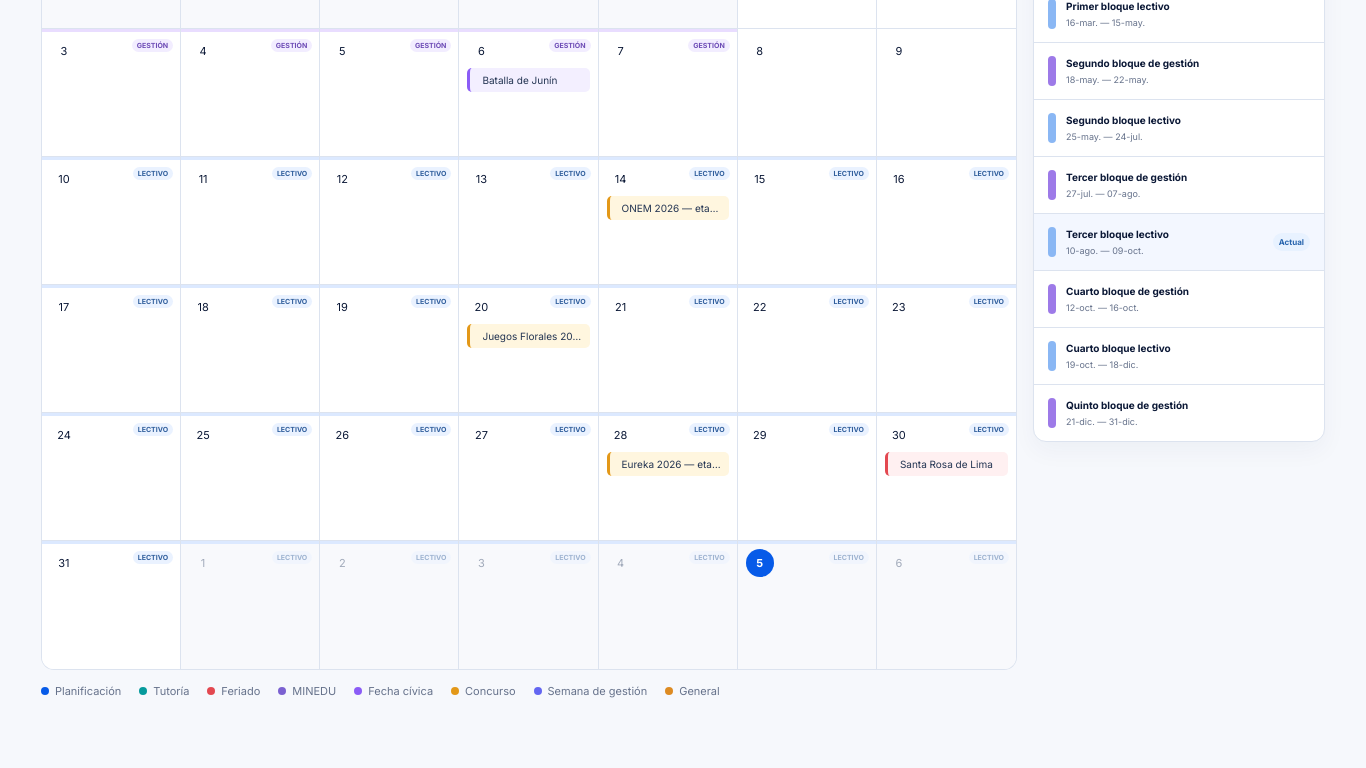
Test: CalendarPage › opens the date dialog with a double click and then opens its details
The image size is (1366, 768).
(page scrolled)
Double-click the button named "Agregar evento el 31/8/2026" at (64, 563), box [50,549,78,577]
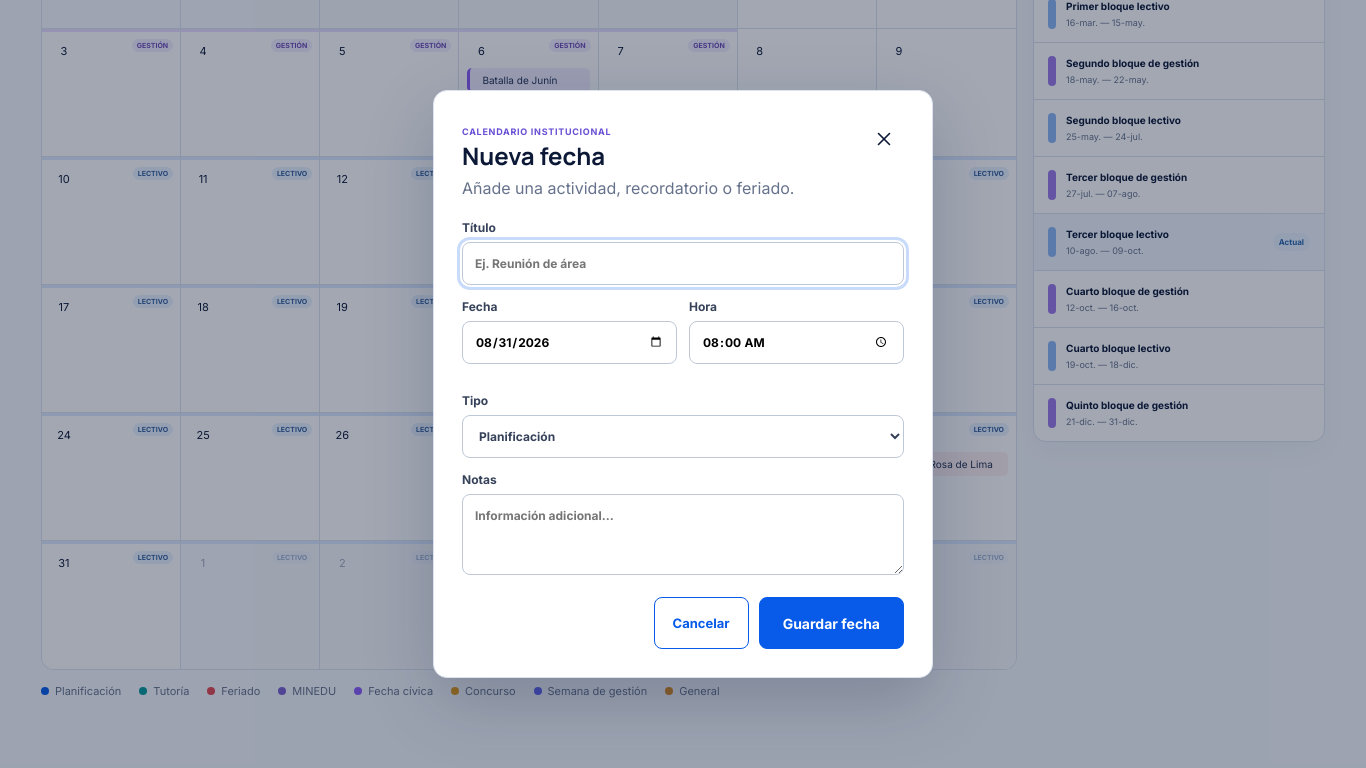
Type "Reunión con familias" into the field labelled "Título" at (683, 263), box [462,242,904,285]
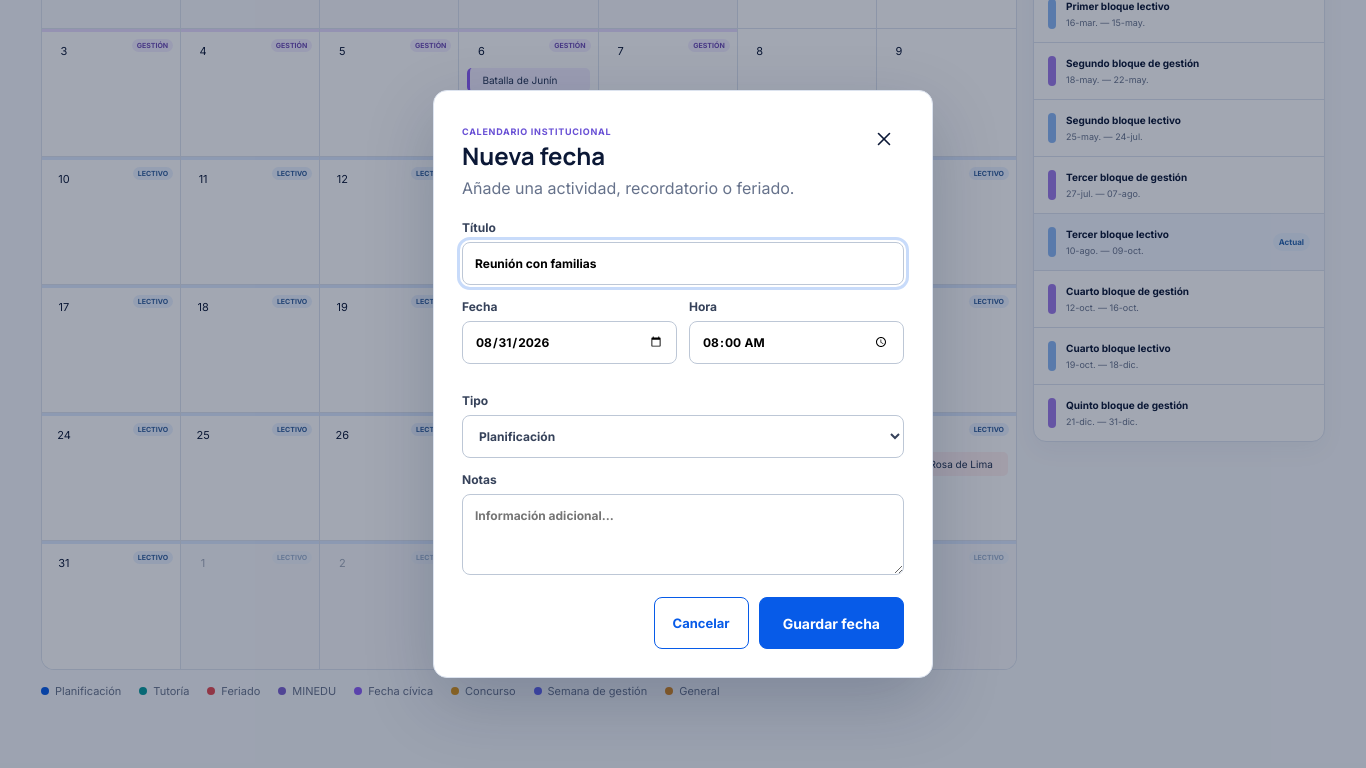
Click the button "Guardar fecha" at (831, 623), box [759,597,904,649]
(page scrolled)
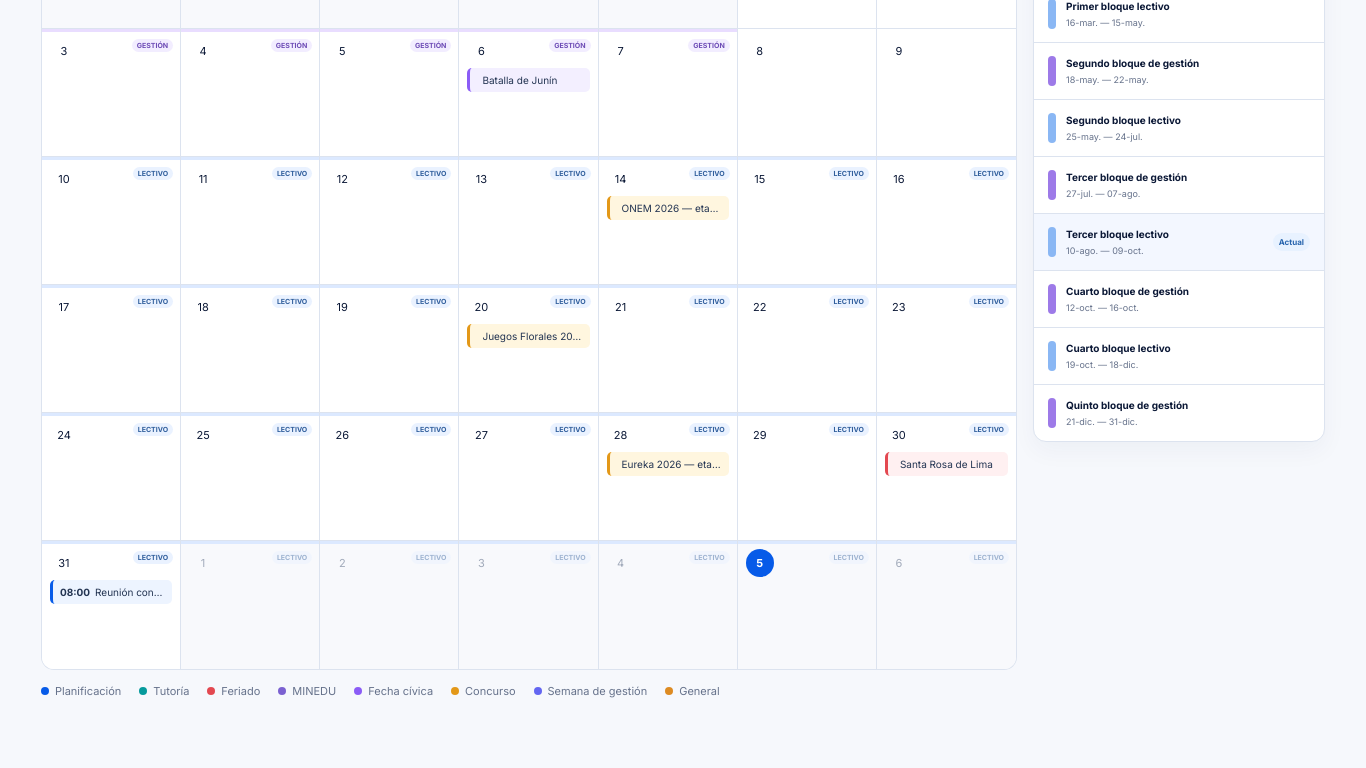
Click the button "08:00Reunión con familias" at (111, 592), box [50,580,172,604]
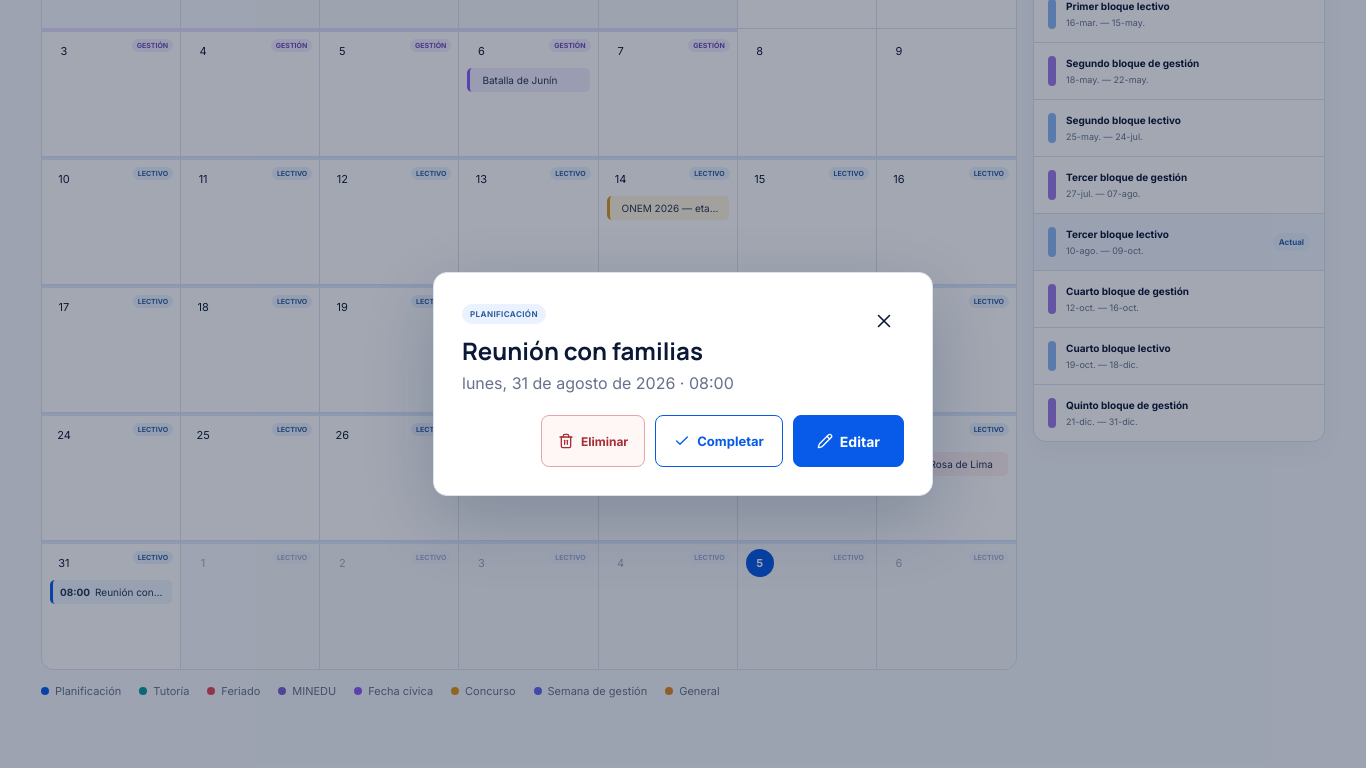
Result: the dialog named "Detalle de fecha" is shown at [433,272,933,496]
Result: the button "Editar" is shown at [793,415,904,467]
Result: the button "Completar" is shown at [655,415,783,467]
